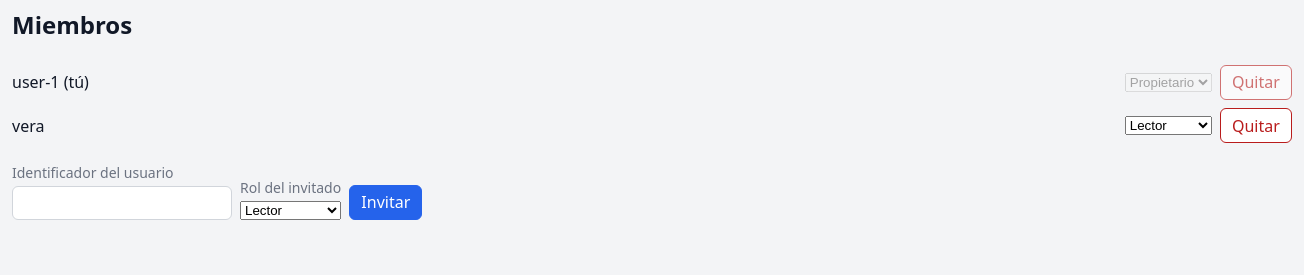
MembersPanel › invitar a alguien que ya es miembro muestra el error
Type "vera" into the field labelled "Identificador del usuario".
click(122, 203); type("vera")  # box [12,186,232,220]
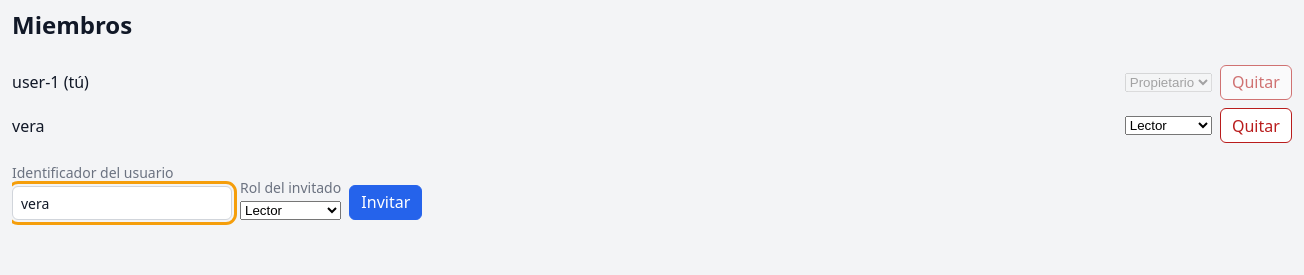
Click the button "Invitar".
click(386, 202)  # box [349,185,422,220]
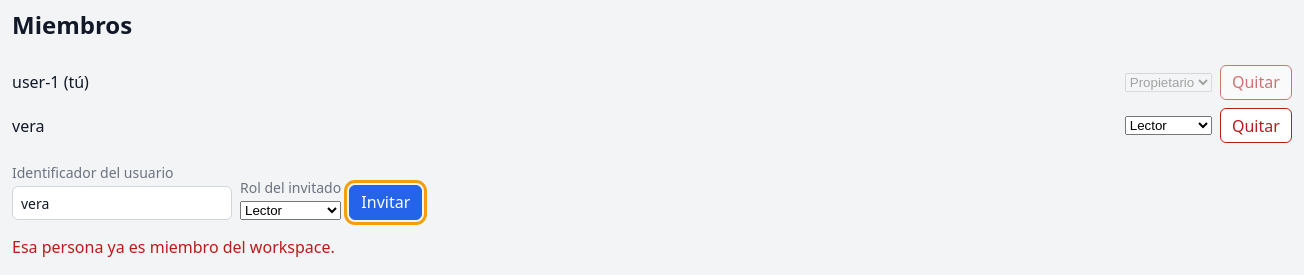
Expected: the message shows "ya es miembro", [12,236,335,258]
